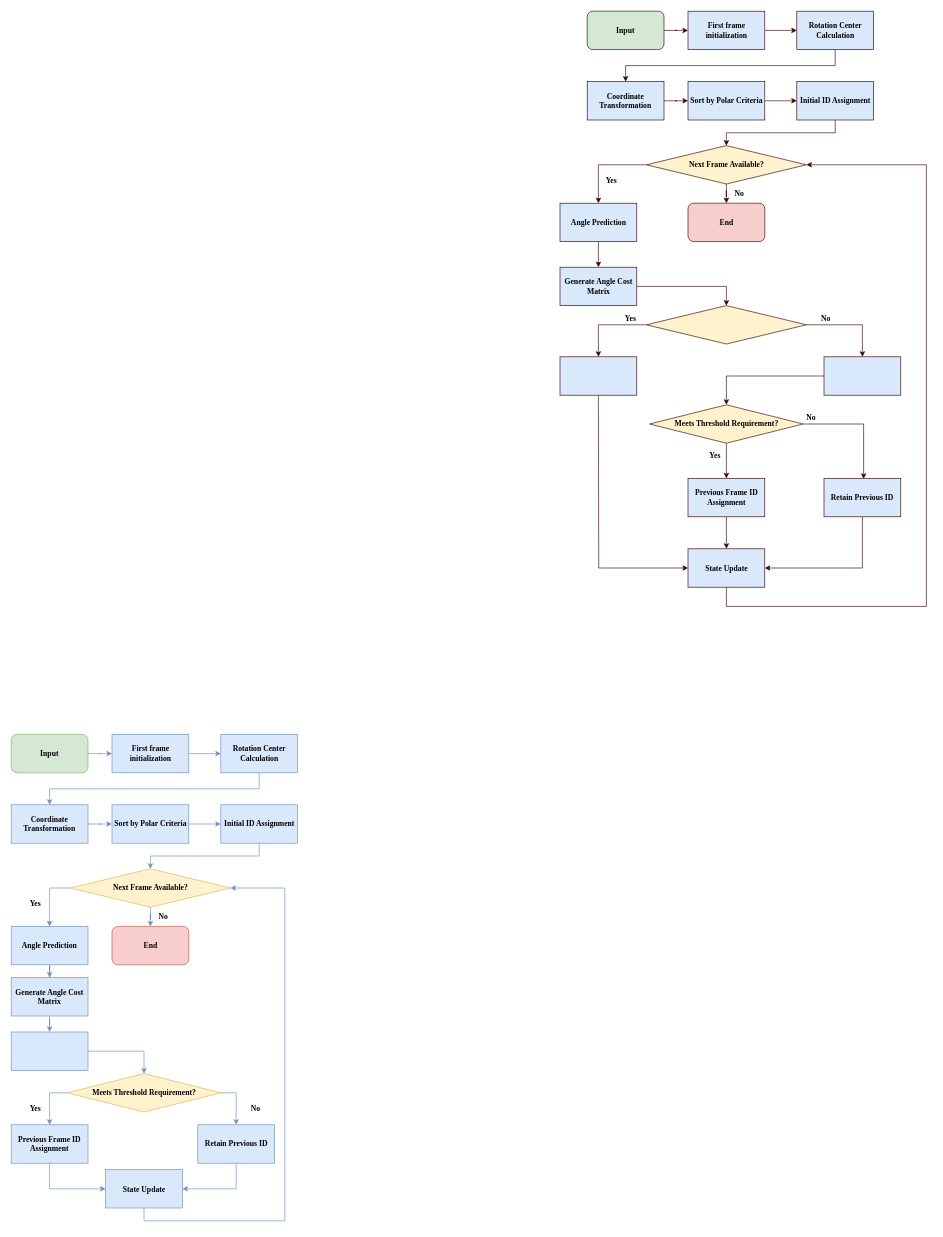
Some shapes in this 943 by 1237 pixel diagram are drawn without their labels. Here are the shapes that lost their labels. From the top down, the box of each, then its label:
(646, 305, 806, 344): Target Number = 3 (Expected) ?
(559, 356, 637, 395): Match by Predicted Order
(823, 356, 901, 395): Match by Nearest Prediction (Greedy)
(11, 1031, 88, 1070): Minimum-Cost Matching
